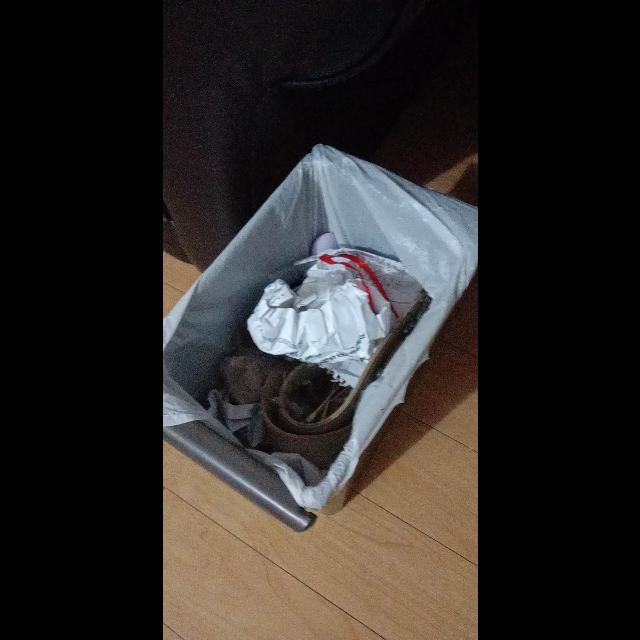paper: (247, 280, 385, 364), (312, 234, 422, 323)
